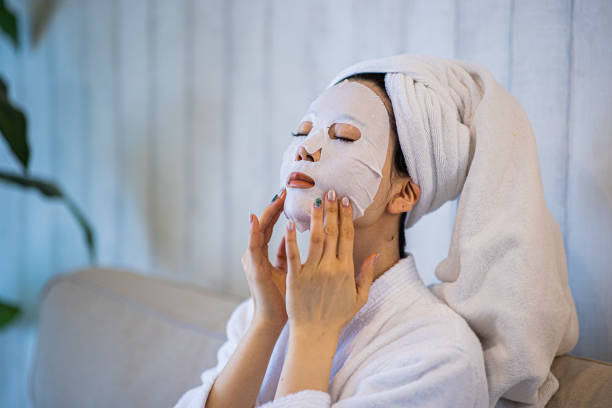without mask: (273, 79, 399, 226)
